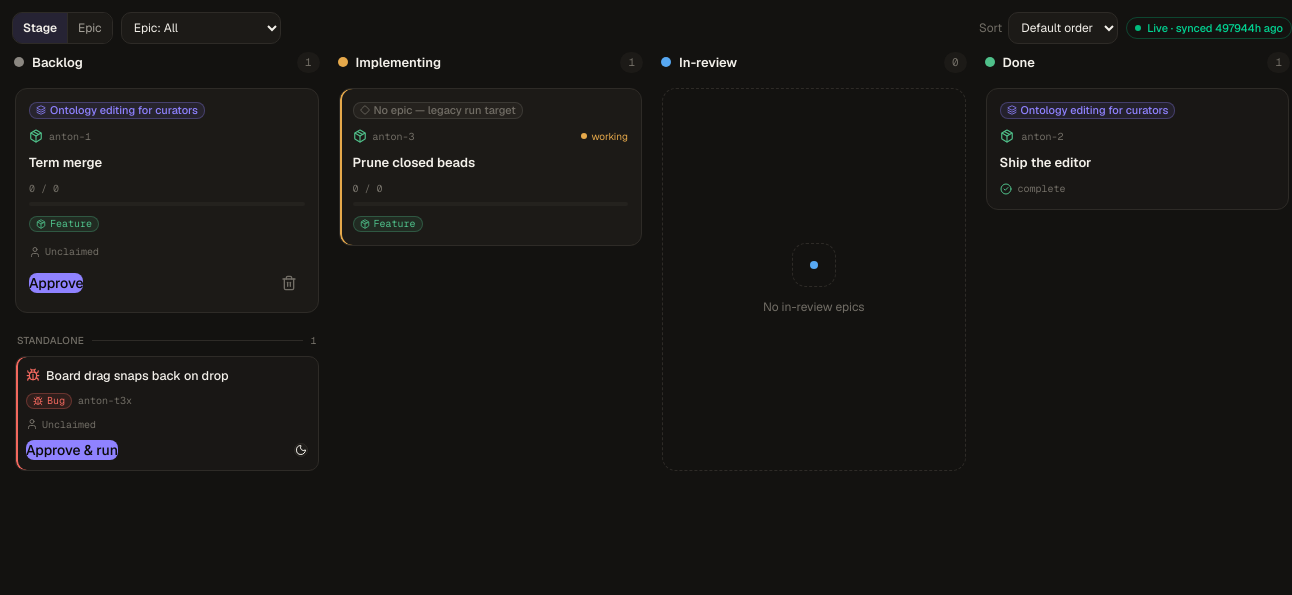
Test: board grouping (anton-9pkk.4) › collects epic-less run targets and standalone chips in a final No epic lane
Click the button "Epic": [89, 28] box x1=67 y1=13 x2=112 y2=43
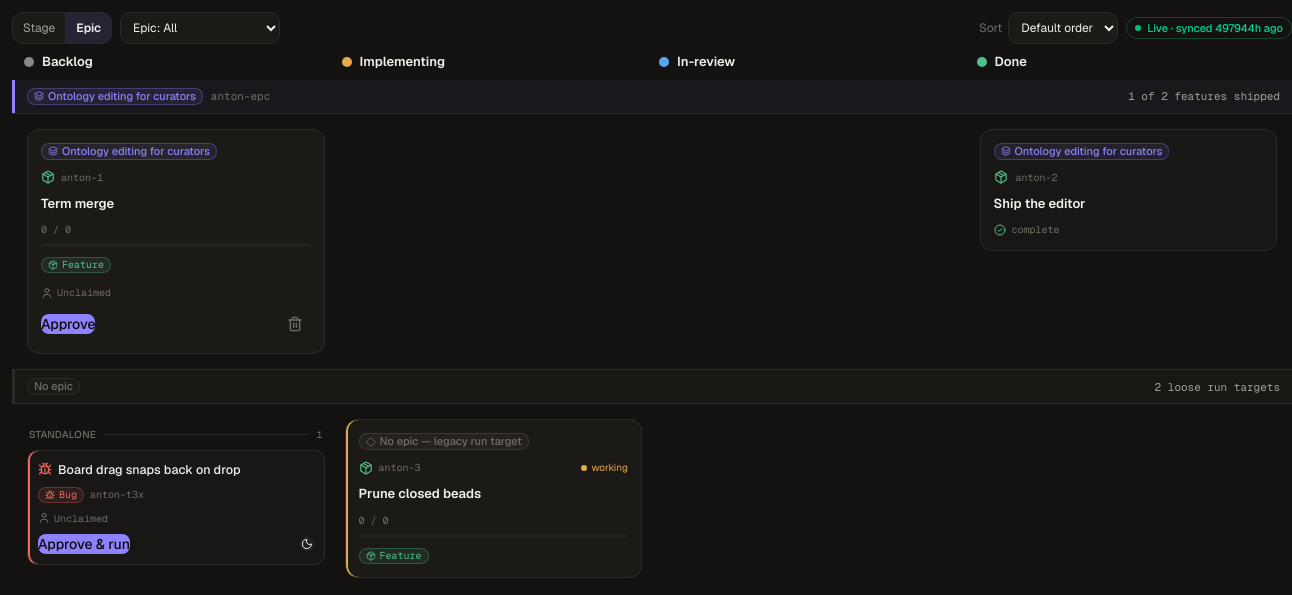
Now the element named "No epic" shows "Prune closed beads", box x1=358 y1=485 x2=481 y2=502
Now the element named "No epic" shows "Board drag snaps back on drop", box x1=58 y1=461 x2=241 y2=478
Now the element named "No epic" shows "2 loose run targets", box x1=1155 y1=380 x2=1280 y2=394
